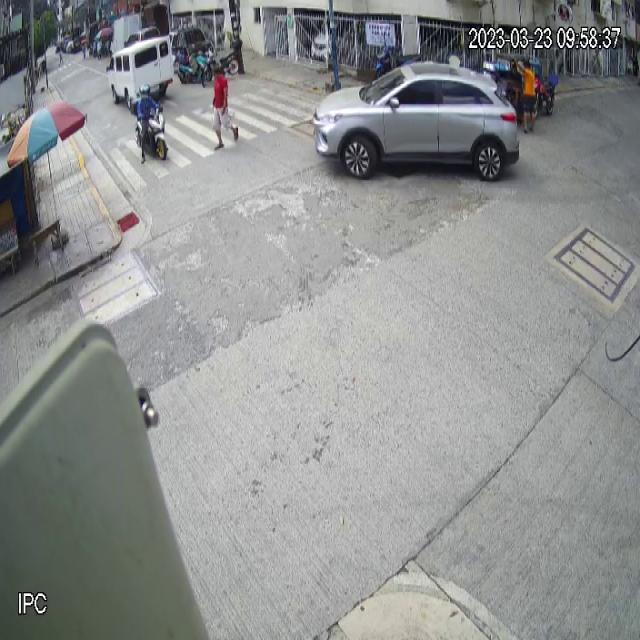Car: (311, 61, 520, 182)
Van: (105, 35, 175, 111)
